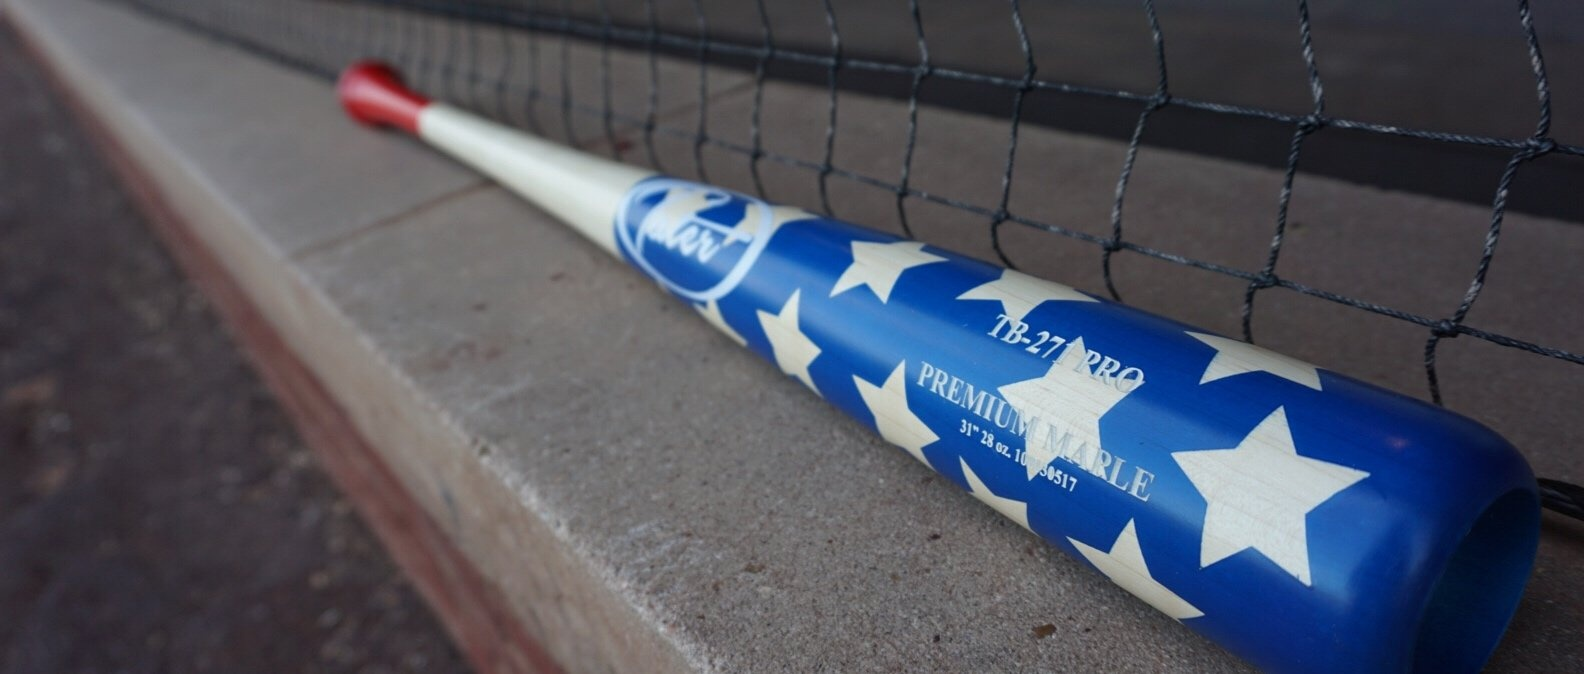bita: (353, 66, 1505, 664)
